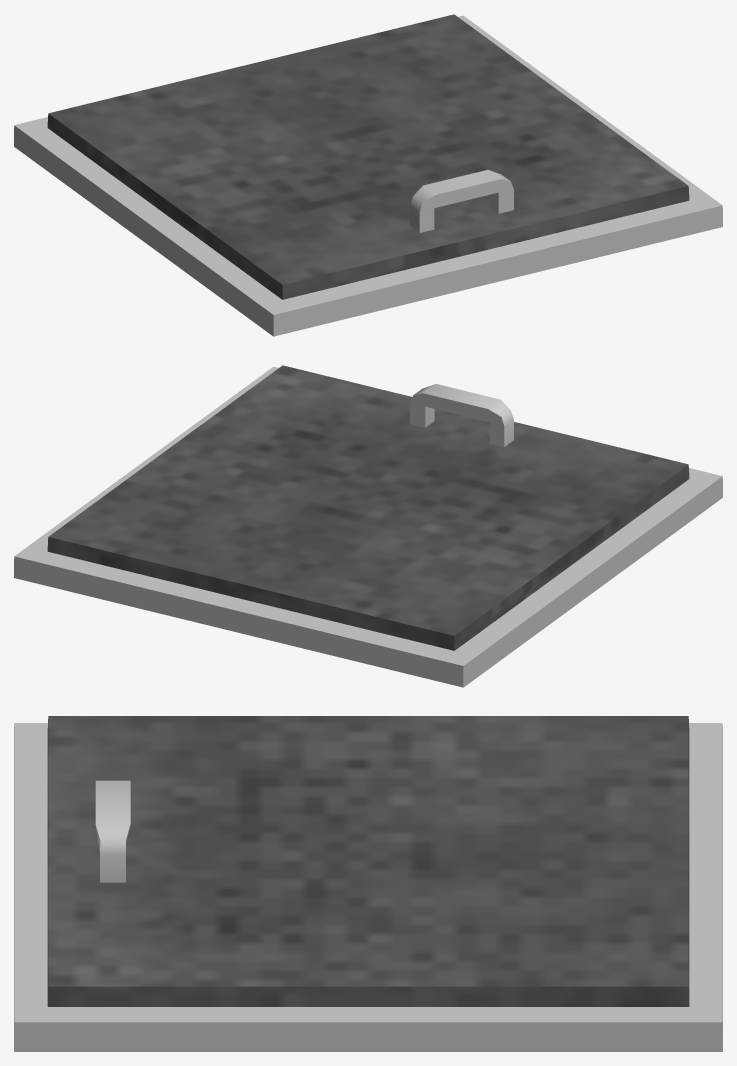
The model's file is MS_FloorHatch.fbx.
3 views of the same model, one above another, from view 1: azimuth 30°, elevation 25°; view 2: azimuth 150°, elevation 25°; view 3: azimuth 270°, elevation 25° (orthographic). The views are drawn at different scales.
Visible parts, largest first — view 1: MSH_Floor_Hatch; view 2: MSH_Floor_Hatch; view 3: MSH_Floor_Hatch.
Boxes of the visible parts, x1,y1,x2,y2 form: MSH_Floor_Hatch: (14,14,722,336); MSH_Floor_Hatch: (14,365,722,687); MSH_Floor_Hatch: (14,716,722,1051).
Bounding box in the file's own units: 122 × 18.99 × 122.
